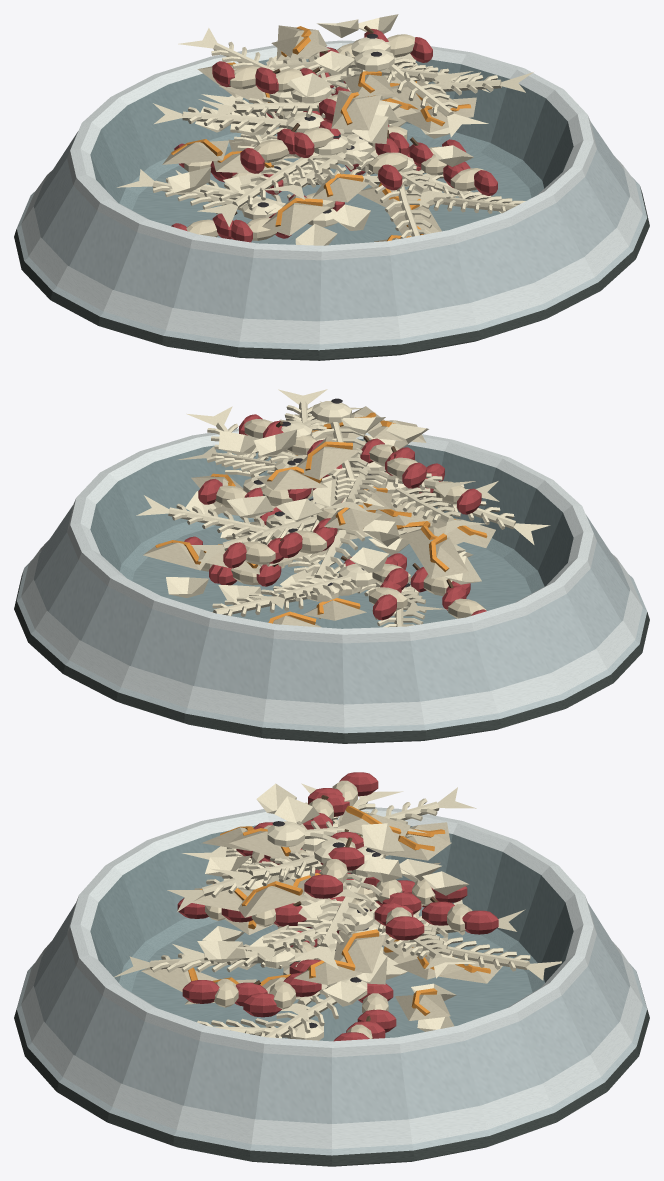
The model's file is food_bowl_garbage.obj.
The picture shows the model from 3 angles, top to bottom: view 1: azimuth 30°, elevation 25°; view 2: azimuth 150°, elevation 25°; view 3: azimuth 270°, elevation 25°; orthographic projection. The views are drawn at different scales.
Parts seen in each view (by area): view 1: food_bowl_garbage; view 2: food_bowl_garbage; view 3: food_bowl_garbage.
Part boxes in pixels (box(x1,y1,x2,y2)): food_bowl_garbage: box(14, 14, 649, 360); food_bowl_garbage: box(14, 389, 649, 743); food_bowl_garbage: box(14, 772, 649, 1166).
Bounding box in the file's own units: 14.16 × 4.73 × 12.89.
Materials: 1 (1 with a texture image).
